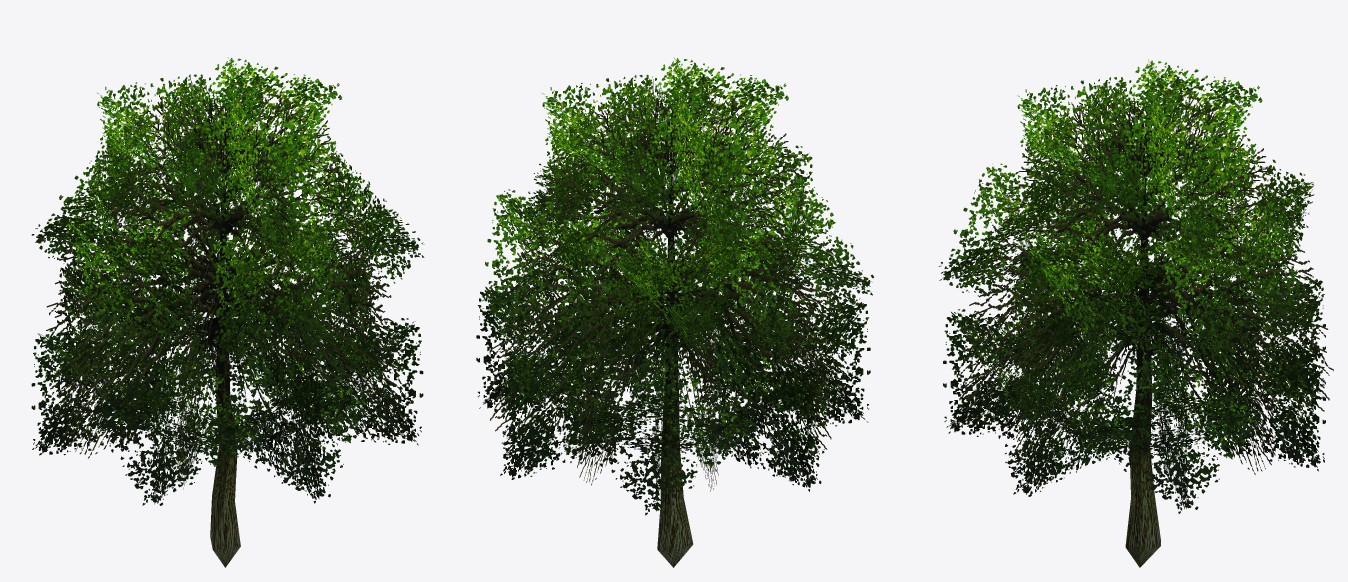
The model's file is esdoorn_1.fbx.
The picture shows the model from 3 angles, left to right: view 1: azimuth 30°, elevation 25°; view 2: azimuth 150°, elevation 25°; view 3: azimuth 270°, elevation 25°; orthographic projection.
Parts seen in each view (by area): view 1: esdoorn_1; view 2: esdoorn_1; view 3: esdoorn_1.
Part boxes in pixels (box(x1,y1,x2,y2)): esdoorn_1: box(31, 57, 424, 567); esdoorn_1: box(476, 58, 873, 567); esdoorn_1: box(939, 59, 1333, 567).
Size of the model in its own units: 702 by 920 by 682.
